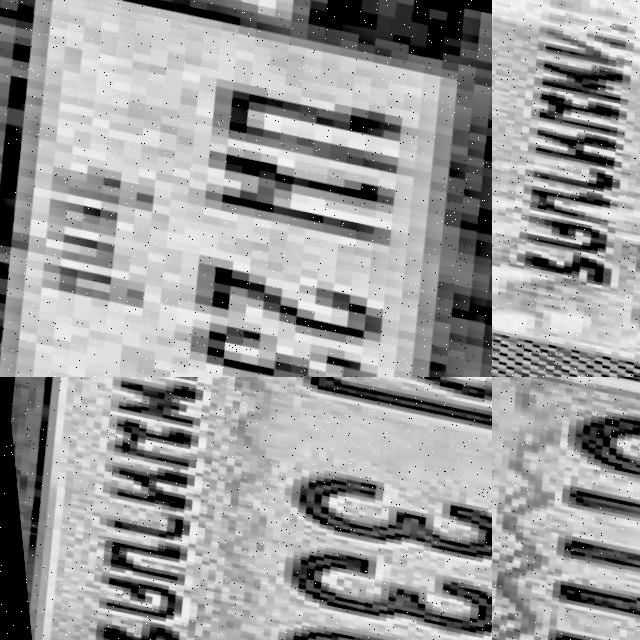license-plate: (0, 0, 492, 377), (0, 377, 492, 640), (492, 0, 640, 377), (492, 377, 640, 640)
